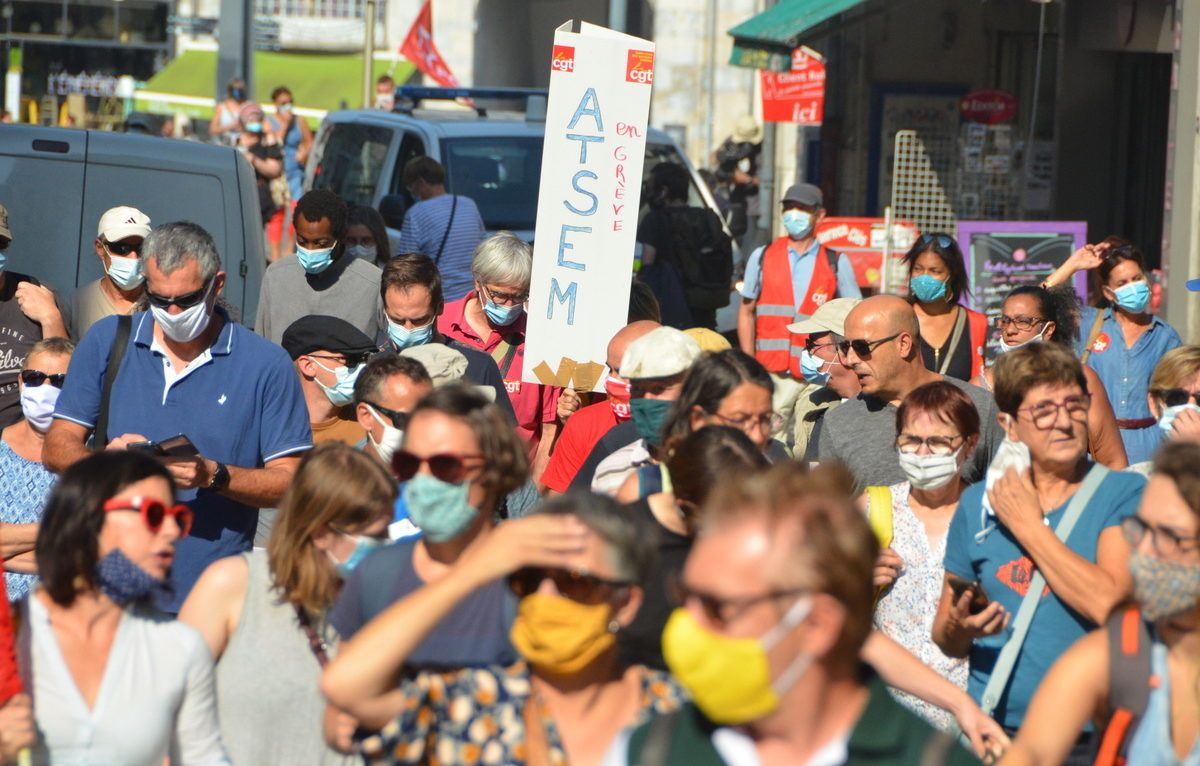with_incorrect_mask: (89, 494, 190, 597), (993, 300, 1053, 348)
with_mask: (660, 551, 846, 723), (508, 563, 627, 678), (1115, 500, 1198, 626), (393, 443, 493, 541), (139, 274, 227, 344), (893, 414, 961, 493), (12, 358, 68, 426), (285, 214, 340, 279), (478, 265, 529, 331), (1101, 265, 1157, 316), (96, 227, 140, 290), (381, 297, 439, 344), (900, 253, 952, 305), (317, 338, 356, 401), (630, 379, 675, 432), (798, 331, 838, 386)
without_mask: (1020, 396, 1095, 457), (843, 324, 892, 395)
